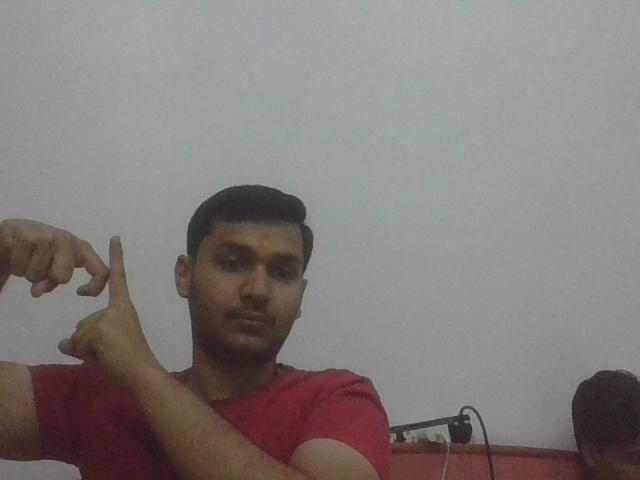K: (59, 225, 134, 318)
